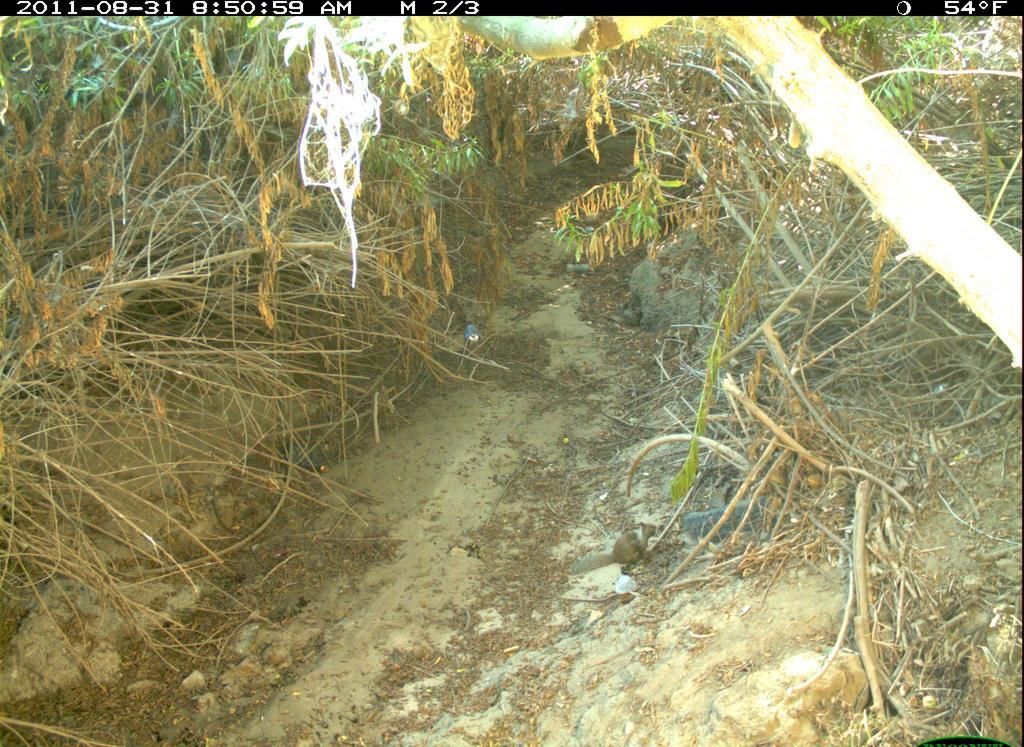squirrel: (566, 514, 664, 588)
